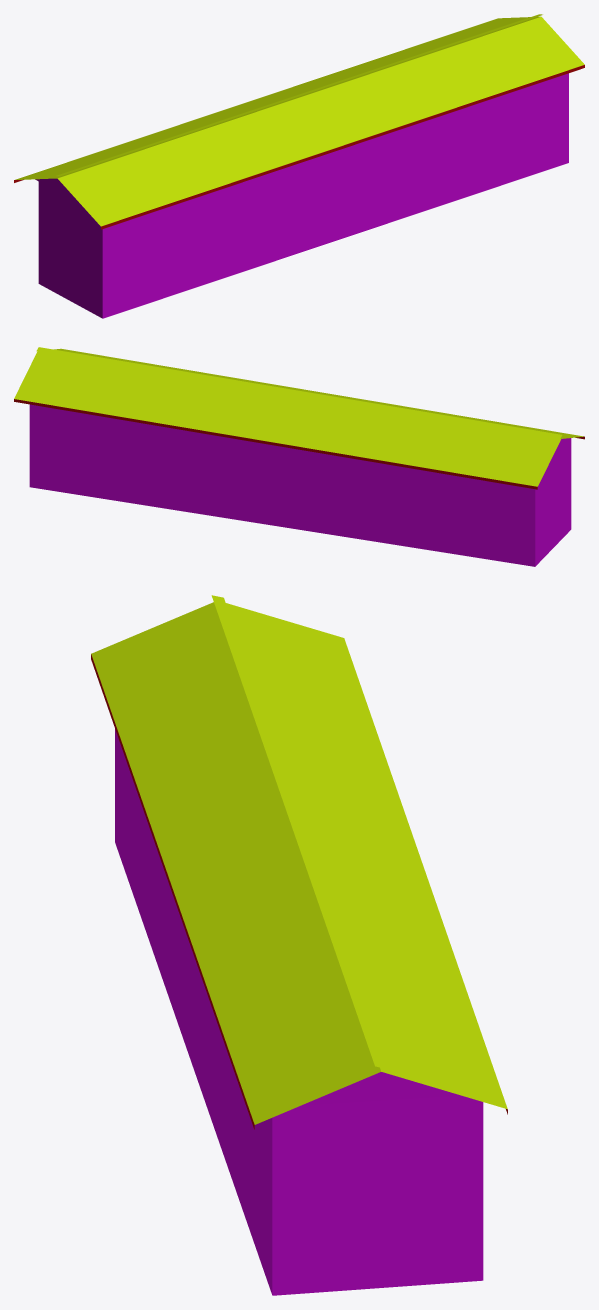
The model's file is rmc_28.glb.
The picture shows the model from 3 angles, top to bottom: view 1: azimuth 30°, elevation 25°; view 2: azimuth 150°, elevation 25°; view 3: azimuth 270°, elevation 25°; orthographic projection. The views are drawn at different scales.
Parts seen in each view (by area): view 1: rmc_28; view 2: rmc_28; view 3: rmc_28.
Boxes of the visible parts, x1,y1,x2,y2 form: rmc_28: (14, 14, 584, 318); rmc_28: (14, 347, 584, 566); rmc_28: (91, 595, 507, 1295).
Bounding box in the file's own units: 21.98 × 4.88 × 7.95.
